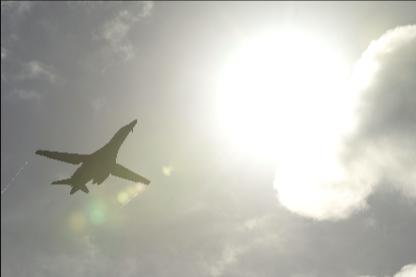AV8B: (33, 118, 149, 194)
